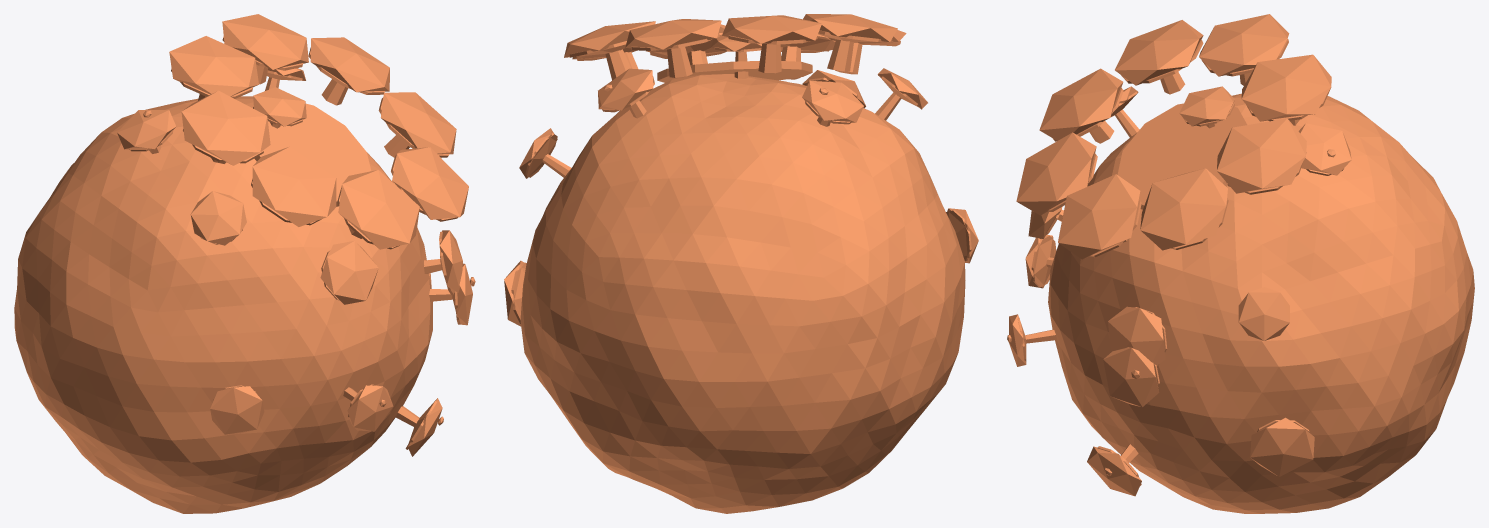
The model's file is Mushroom_02.fbx.
3 views of the same model, side by side, from view 1: azimuth 30°, elevation 25°; view 2: azimuth 150°, elevation 25°; view 3: azimuth 270°, elevation 25° (orthographic). The views are drawn at different scales.
Parts seen in each view (by area): view 1: Mushroom_02; view 2: Mushroom_02; view 3: Mushroom_02.
Boxes of the visible parts, box(x1,y1,x2,y2) form: Mushroom_02: box(14, 14, 475, 513); Mushroom_02: box(504, 14, 978, 513); Mushroom_02: box(1007, 14, 1474, 513).
Size of the model in its own units: 6.53 by 7.19 by 6.67.
